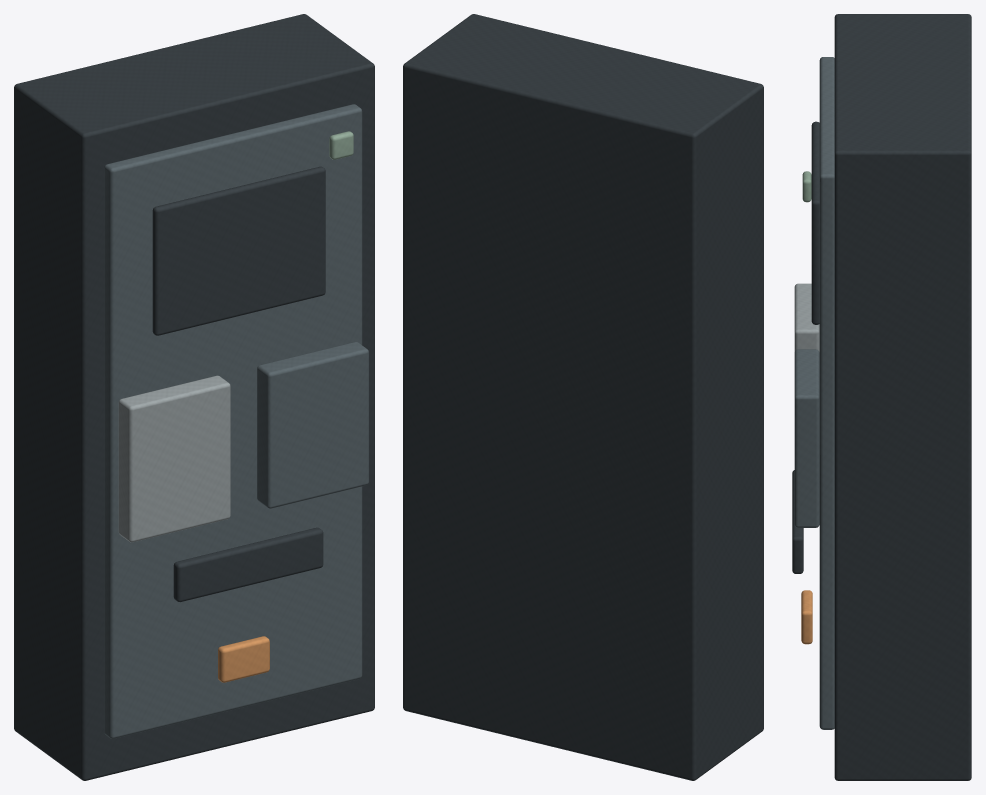
The model's file is WallPPEDispenser.fbx.
The picture shows the model from 3 angles, left to right: view 1: azimuth 30°, elevation 25°; view 2: azimuth 150°, elevation 25°; view 3: azimuth 270°, elevation 25°; orthographic projection. The views are drawn at different scales.
Visible parts, largest first — view 1: WallPPEDispenser_Mesh; view 2: WallPPEDispenser_Mesh; view 3: WallPPEDispenser_Mesh.
Boxes of the visible parts, x1,y1,x2,y2 form: WallPPEDispenser_Mesh: [14, 14, 374, 780]; WallPPEDispenser_Mesh: [403, 14, 763, 780]; WallPPEDispenser_Mesh: [792, 14, 971, 780].
Size of the model in its own units: 72 by 152 by 39.25.
Materials: 5 (5 with a texture image).
